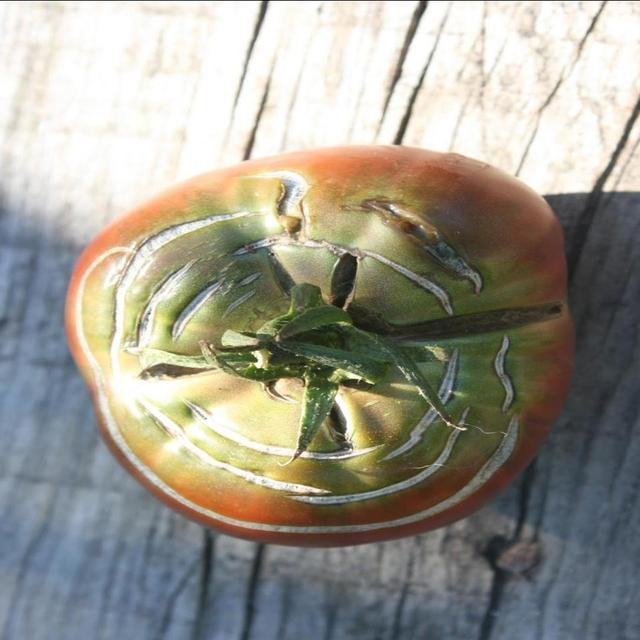Cracking Fruit: (48, 116, 352, 355)
